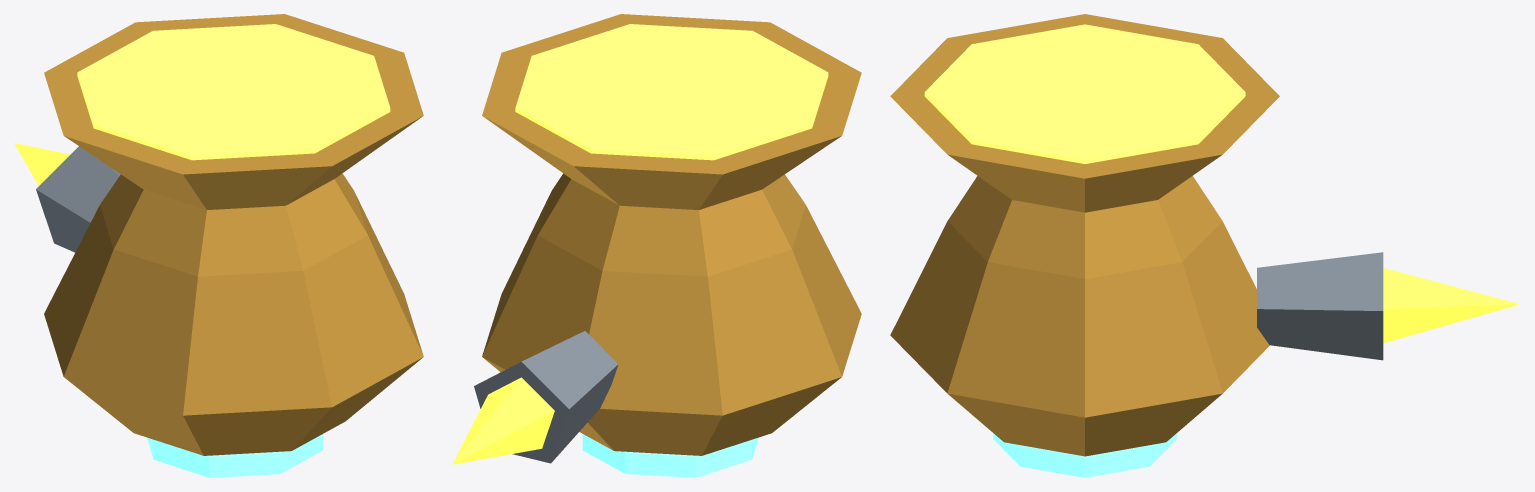
File: Prop_Spittoon_Hover.fbx
The picture shows the model from 3 angles, left to right: view 1: azimuth 30°, elevation 25°; view 2: azimuth 150°, elevation 25°; view 3: azimuth 270°, elevation 25°; orthographic projection.
Parts seen in each view (by area): view 1: Prop_Spittoon_Hover; view 2: Prop_Spittoon_Hover; view 3: Prop_Spittoon_Hover.
Part boxes in pixels (x1,y1,x2,y2): Prop_Spittoon_Hover: (14, 14, 423, 477); Prop_Spittoon_Hover: (452, 14, 861, 477); Prop_Spittoon_Hover: (890, 14, 1520, 477).
Bounding box in the file's own units: 0.34 × 0.334 × 0.55.
